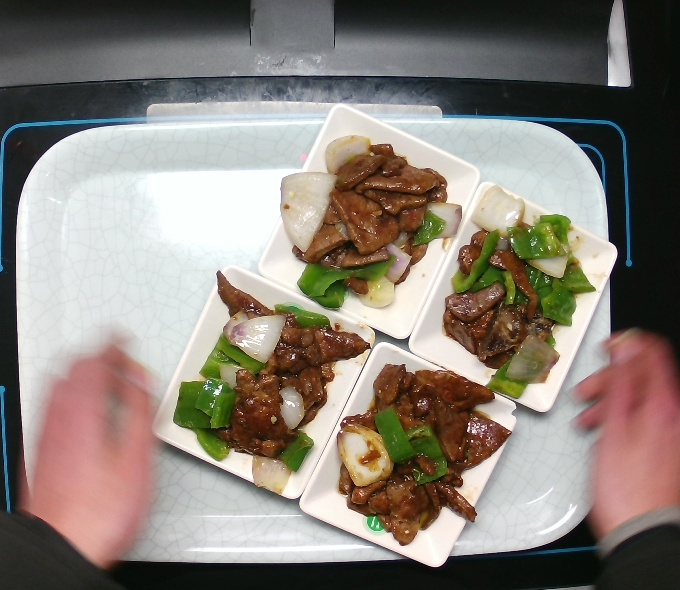wcq-ZhuGan: (168, 264, 377, 497), (328, 349, 513, 549), (276, 127, 469, 317), (442, 180, 598, 406)
